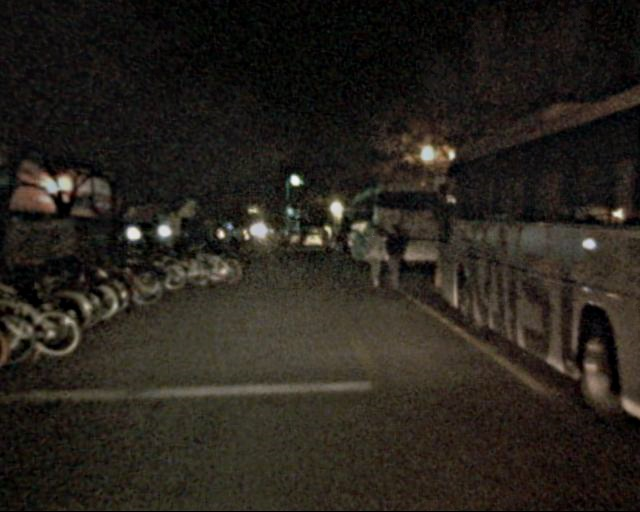person: (381, 225, 407, 288), (359, 223, 384, 285), (326, 223, 346, 272)
